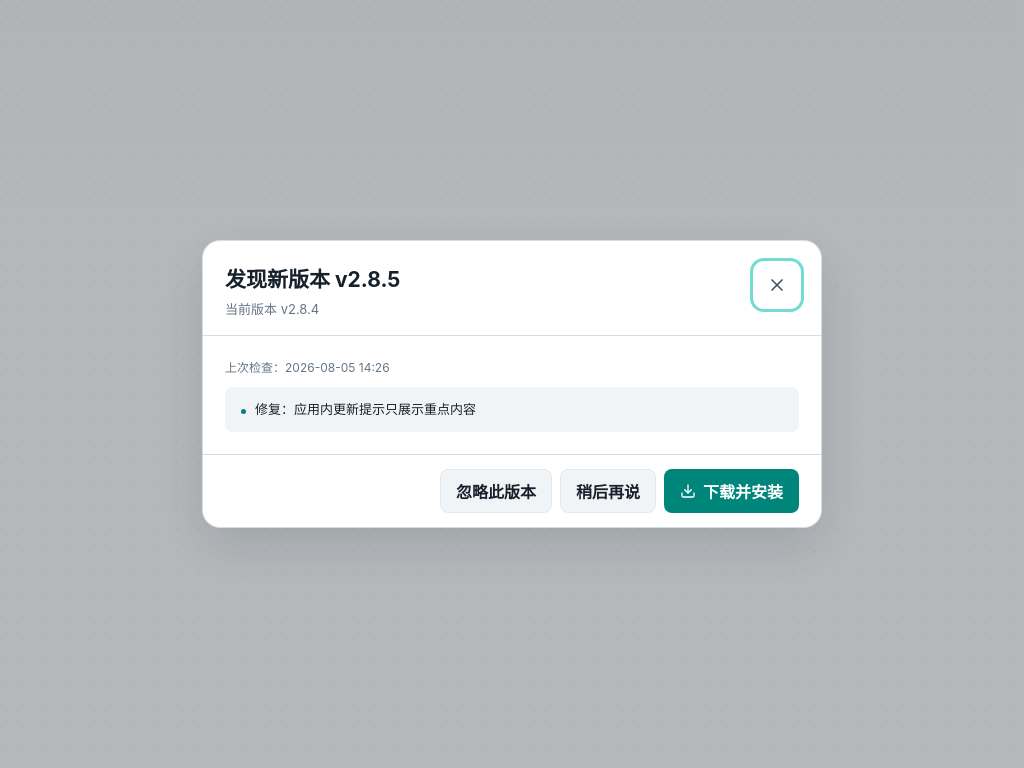
Test: UpdateDialog failure messages › shows backend user_message when the download API fails
The width and height of the screenshot is (1024, 768).
Click the button with test id "update-download" at (732, 491), box [664,469,799,513]
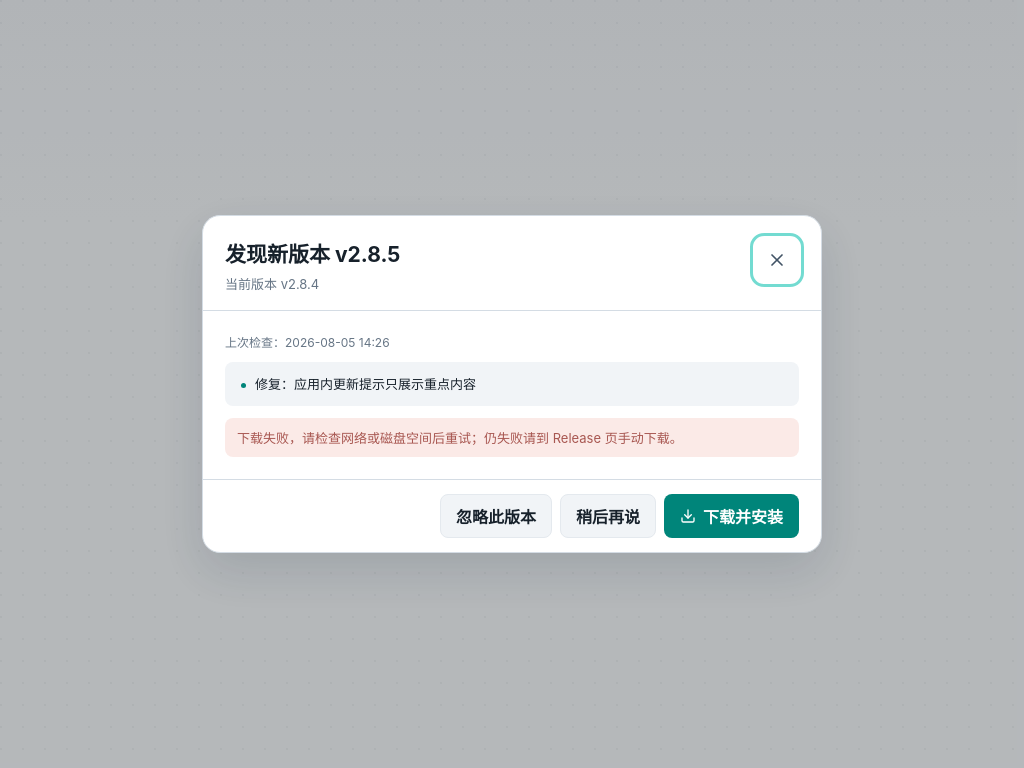
Check: the message with test id "update-error" shows "下载失败，请检查网络或磁盘空间后重试", box [237,430,683,446]
